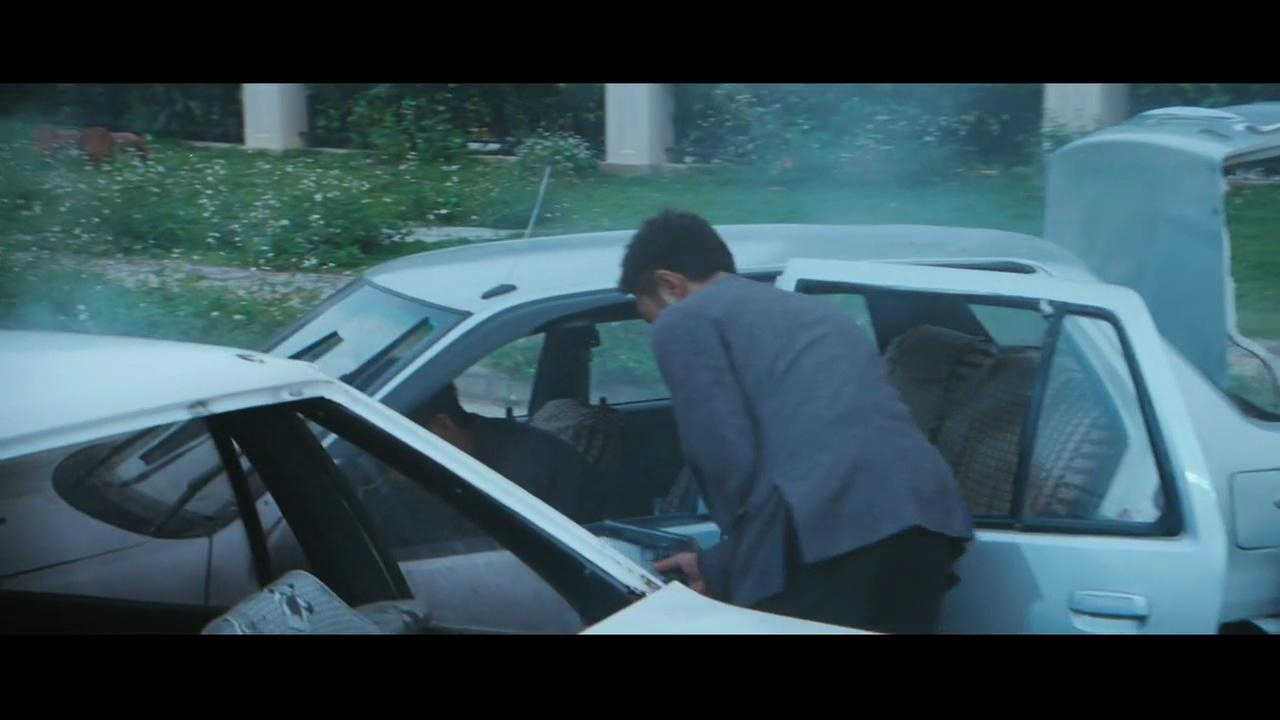gun: (572, 475, 722, 588)
